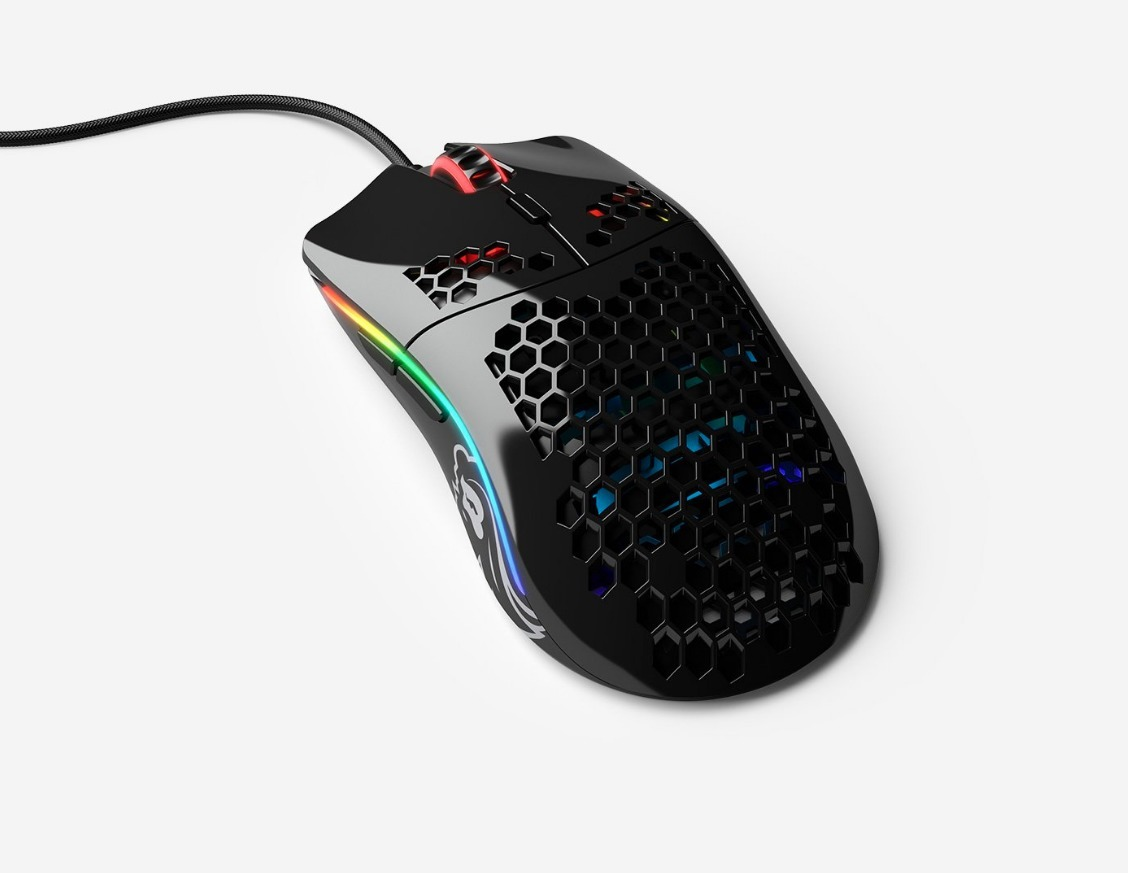mouse: (268, 89, 893, 708)
